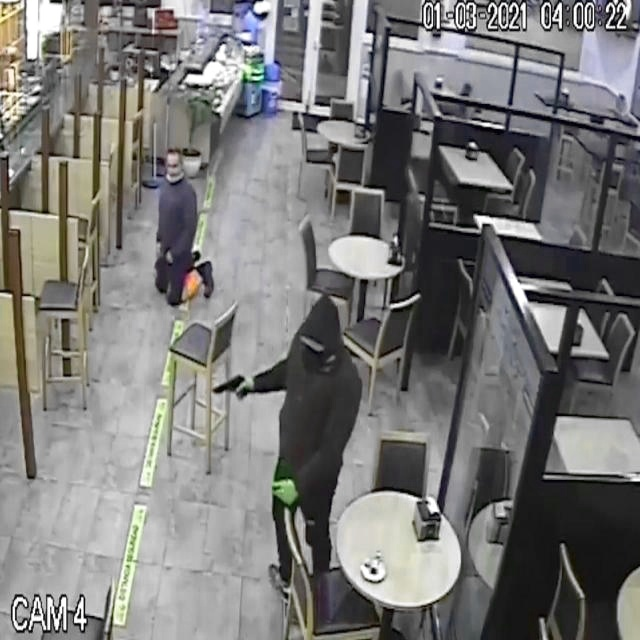gun: (206, 364, 267, 418)
